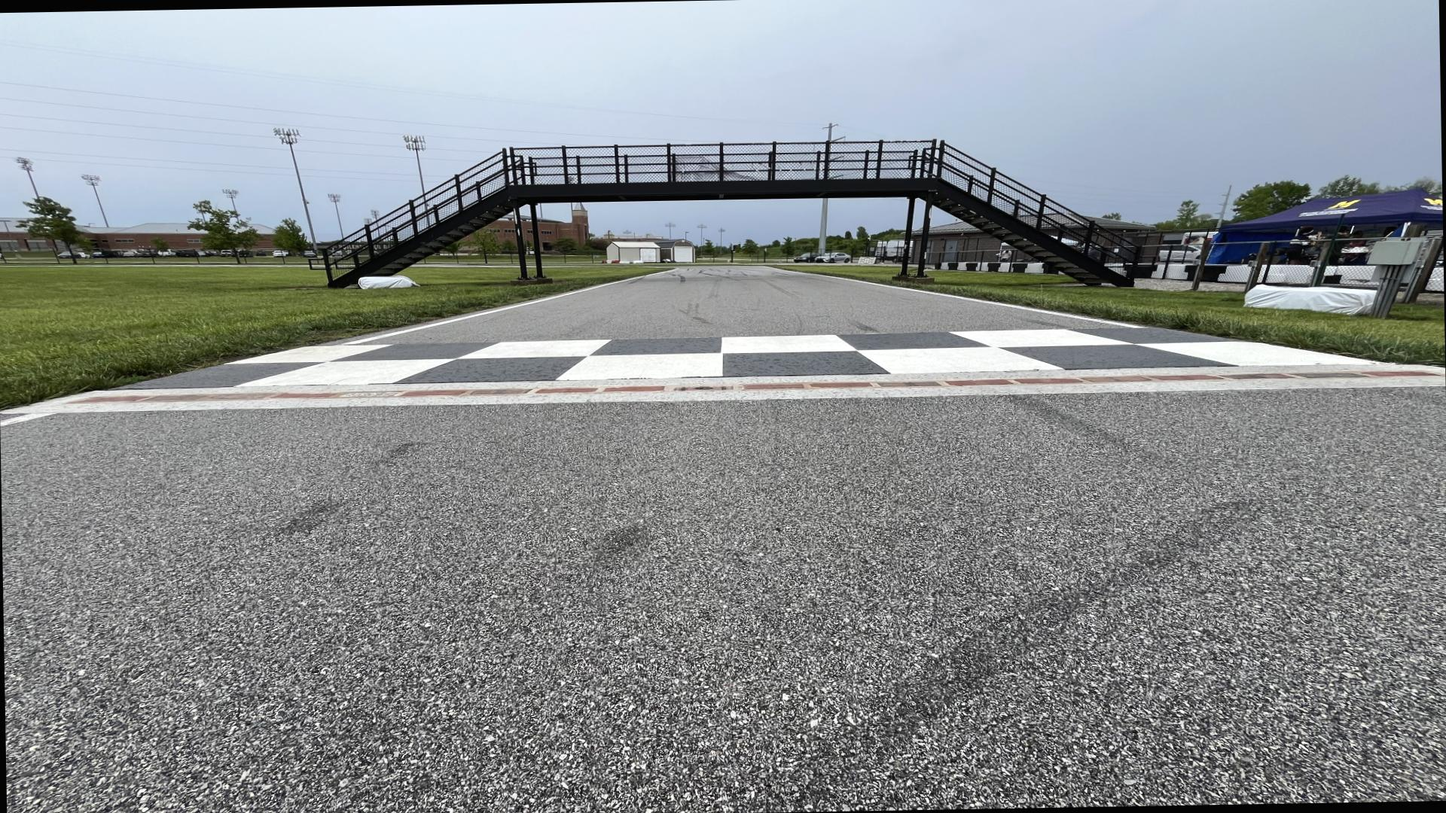white-line: (715, 266, 1150, 329), (341, 272, 668, 346), (0, 413, 56, 426)
